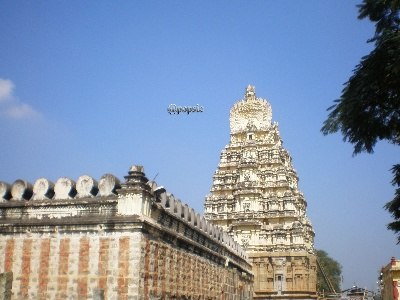gopura: (146, 95, 340, 261)
